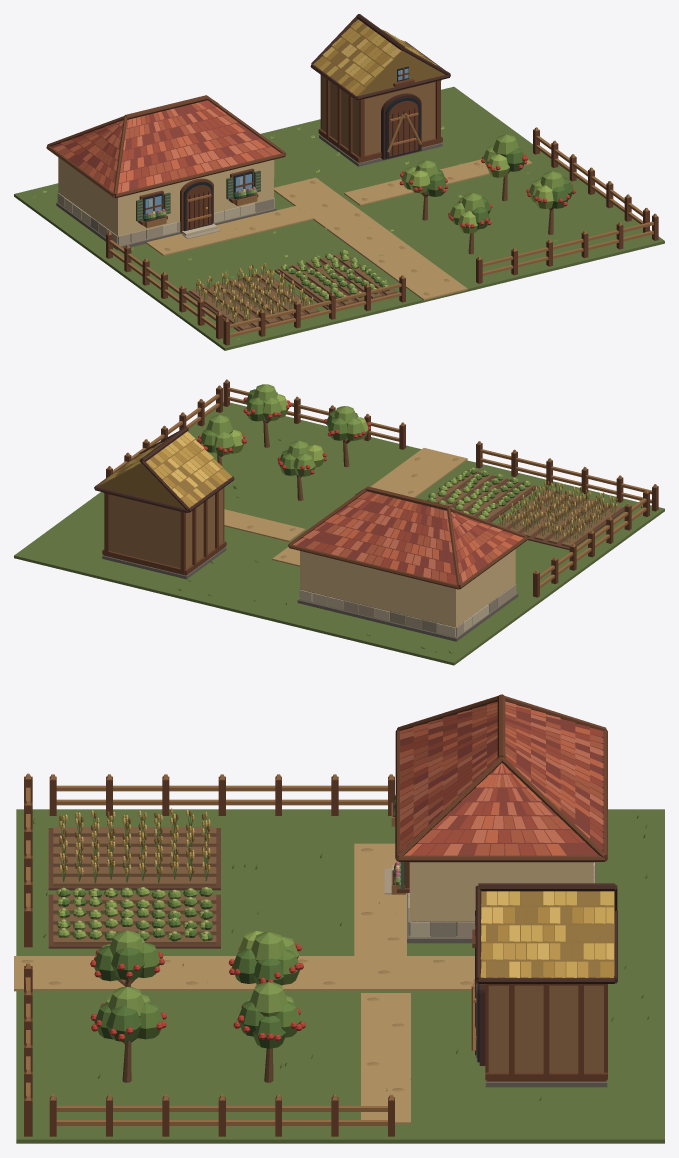
File: farm-nivel-2.glb
3 views of the same model, one above another, from view 1: azimuth 30°, elevation 25°; view 2: azimuth 150°, elevation 25°; view 3: azimuth 270°, elevation 25° (orthographic). The views are drawn at different scales.
Visible parts, largest first — view 1: Fazenda 02 #677a42, Fazenda 02 #70432c, Fazenda 02 #bc9a64, Fazenda 02 #9f7145, Fazenda 02 #dabb89, Fazenda 02 #853e33, Fazenda 02 #886345, Fazenda 02 #9a7049, Fazenda 02 #9b4735, Fazenda 02 #4c3028, Fazenda 02 #92703a, Fazenda 02 #a8563c (+21 smaller); view 2: Fazenda 02 #677a42, Fazenda 02 #70432c, Fazenda 02 #dabb89, Fazenda 02 #9a7049, Fazenda 02 #853e33, Fazenda 02 #886345, Fazenda 02 #9f7145, Fazenda 02 #bc9a64, Fazenda 02 #7a9448, Fazenda 02 #65823d, Fazenda 02 #92703a, Fazenda 02 #bf6243 (+20 smaller); view 3: Fazenda 02 #677a42, Fazenda 02 #bc9a64, Fazenda 02 #70432c, Fazenda 02 #886345, Fazenda 02 #853e33, Fazenda 02 #9f7145, Fazenda 02 #9a7049, Fazenda 02 #dabb89, Fazenda 02 #9b4735, Fazenda 02 #567337, Fazenda 02 #c06b4f, Fazenda 02 #92703a (+20 smaller).
Boxes of the visible parts, box(x1,y1,x2,y2) form: Fazenda 02 #677a42: box(14, 86, 664, 350); Fazenda 02 #70432c: box(46, 68, 658, 345); Fazenda 02 #bc9a64: box(146, 159, 532, 300); Fazenda 02 #9f7145: box(107, 113, 657, 337); Fazenda 02 #dabb89: box(58, 157, 274, 236); Fazenda 02 #853e33: box(50, 101, 272, 192); Fazenda 02 #886345: box(189, 254, 395, 330); Fazenda 02 #9a7049: box(321, 75, 435, 156); Fazenda 02 #9b4735: box(73, 100, 270, 188); Fazenda 02 #4c3028: box(146, 14, 450, 228); Fazenda 02 #92703a: box(316, 20, 444, 95); Fazenda 02 #a8563c: box(58, 103, 281, 181); Fazenda 02 #677a42: box(14, 402, 664, 665); Fazenda 02 #70432c: box(102, 381, 658, 597); Fazenda 02 #dabb89: box(300, 549, 515, 627); Fazenda 02 #9a7049: box(109, 488, 223, 569); Fazenda 02 #853e33: box(296, 492, 518, 583); Fazenda 02 #886345: box(435, 470, 622, 547); Fazenda 02 #9f7145: box(107, 379, 657, 588); Fazenda 02 #bc9a64: box(224, 448, 467, 566); Fazenda 02 #7a9448: box(177, 384, 541, 636); Fazenda 02 #65823d: box(201, 397, 641, 653); Fazenda 02 #92703a: box(99, 435, 227, 507); Fazenda 02 #bf6243: box(325, 491, 523, 574); Fazenda 02 #677a42: box(16, 809, 664, 1143); Fazenda 02 #bc9a64: box(14, 843, 474, 1124); Fazenda 02 #70432c: box(24, 694, 607, 1136); Fazenda 02 #886345: box(53, 827, 216, 944); Fazenda 02 #853e33: box(399, 703, 603, 855); Fazenda 02 #9f7145: box(25, 773, 475, 1125); Fazenda 02 #9a7049: box(488, 985, 603, 1072); Fazenda 02 #dabb89: box(409, 862, 593, 922); Fazenda 02 #9b4735: box(399, 707, 603, 855); Fazenda 02 #567337: box(59, 887, 286, 1048); Fazenda 02 #c06b4f: box(399, 701, 603, 855); Fazenda 02 #92703a: box(481, 891, 614, 977).
Size of the model in its own units: 17.81 by 4.43 by 14.84.
